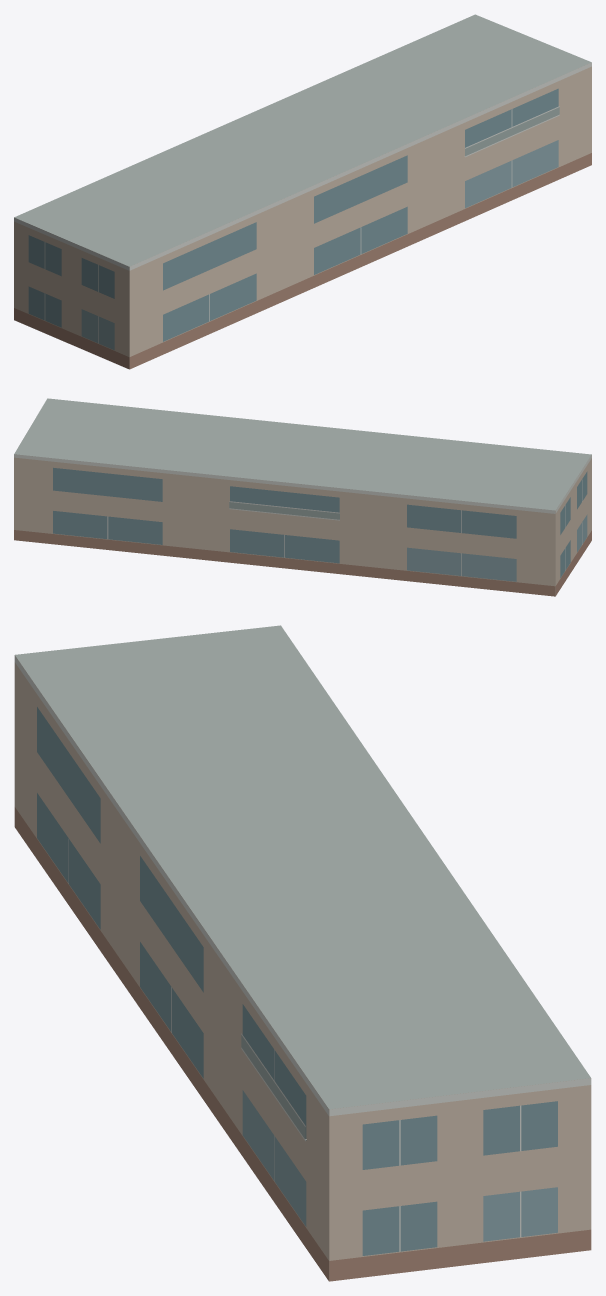
File: survey-upis-32979726.glb
3 views of the same model, one above another, from view 1: azimuth 30°, elevation 25°; view 2: azimuth 150°, elevation 25°; view 3: azimuth 270°, elevation 25° (orthographic). The views are drawn at different scales.
Parts seen in each view (by area): view 1: survey-upis-32979726.tmp; view 2: survey-upis-32979726.tmp; view 3: survey-upis-32979726.tmp.
Boxes of the visible parts, x1,y1,x2,y2 form: survey-upis-32979726.tmp: (14,14,591,369); survey-upis-32979726.tmp: (14,398,591,596); survey-upis-32979726.tmp: (14,625,591,1281).
Size of the model in its own units: 36.81 by 6.1 by 18.54.
